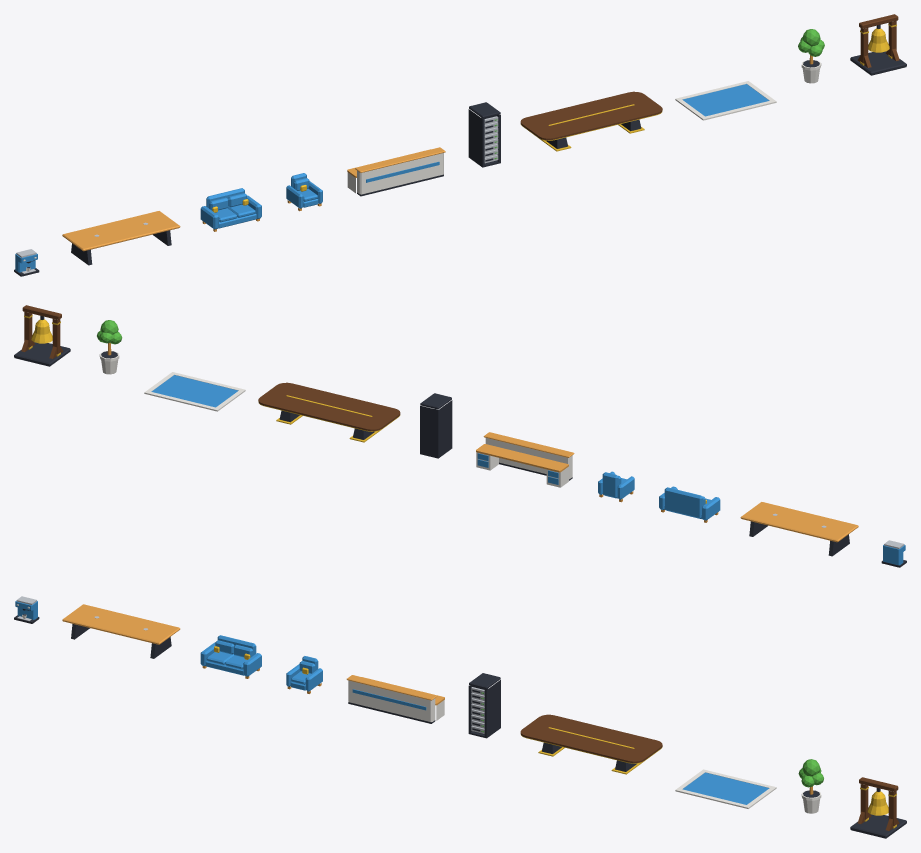
File: FurnitureB.glb
3 views of the same model, one above another, from view 1: azimuth 30°, elevation 25°; view 2: azimuth 150°, elevation 25°; view 3: azimuth 330°, elevation 25° (orthographic).
Visible parts, largest first — view 1: main (×8), trim (×3), dark; view 2: main (×8), trim (×2), dark; view 3: main (×8), trim (×4), dark, accent.
Boxes of the visible parts, box(x1,y1,x2,y2) form: main (×8): box(62, 14, 899, 251); trim (×3): box(347, 81, 776, 177); dark: box(850, 24, 906, 75); main (×8): box(21, 305, 858, 542); trim (×2): box(144, 372, 574, 472); dark: box(14, 315, 70, 366); main (×8): box(62, 604, 899, 830); trim (×4): box(346, 675, 776, 808); dark: box(850, 788, 906, 838); accent: box(798, 759, 823, 787).
Size of the model in its own units: 144 by 8 by 8.
